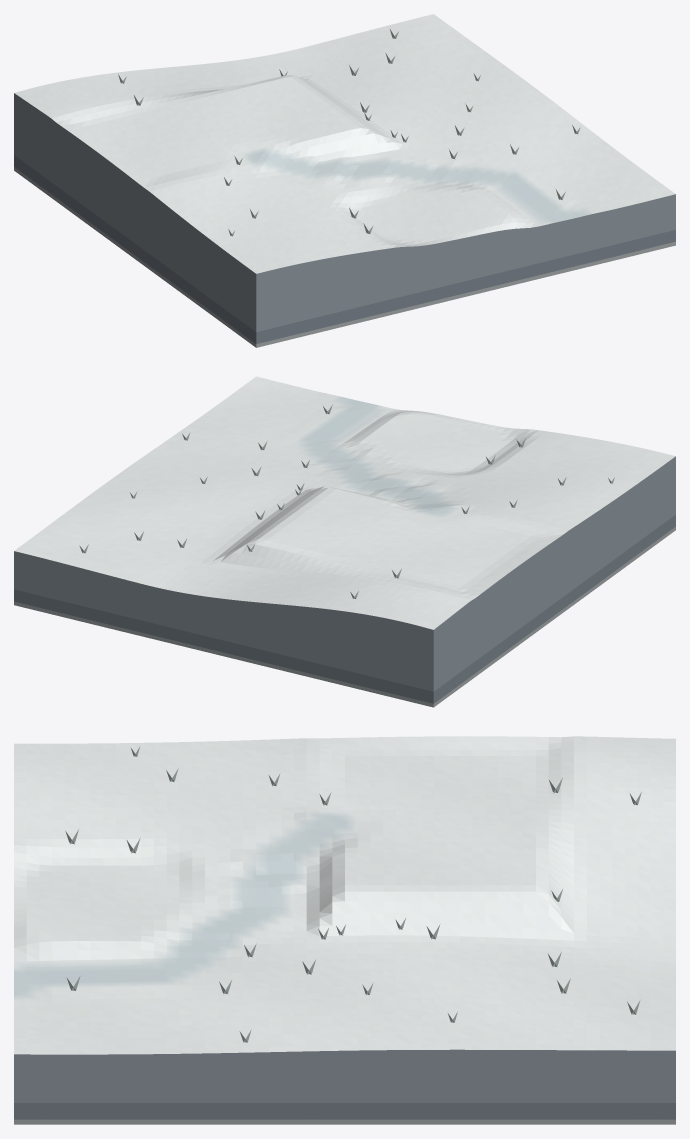
The picture shows the model from 3 angles, top to bottom: view 1: azimuth 30°, elevation 25°; view 2: azimuth 150°, elevation 25°; view 3: azimuth 270°, elevation 25°; orthographic projection. The views are drawn at different scales.
Parts seen in each view (by area): view 1: proc_ground, proc_skirt, proc_grass; view 2: proc_ground, proc_skirt, proc_grass; view 3: proc_ground, proc_skirt, proc_grass.
Boxes of the visible parts, left/top/right/bottom form: proc_ground: left=14, top=14, right=675, bottom=273; proc_skirt: left=14, top=93, right=675, bottom=347; proc_grass: left=118, top=29, right=580, bottom=236; proc_ground: left=14, top=376, right=675, bottom=629; proc_skirt: left=14, top=456, right=675, bottom=707; proc_grass: left=79, top=404, right=614, bottom=598; proc_ground: left=14, top=736, right=675, bottom=1054; proc_skirt: left=14, top=1049, right=675, bottom=1124; proc_grass: left=65, top=746, right=641, bottom=1042.
Size of the model in its own units: 8 by 1.6 by 8.
